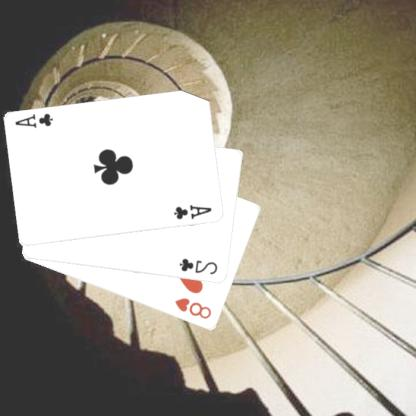2C: (178, 256, 221, 276)
8H: (174, 295, 214, 321)
AC: (14, 111, 57, 130), (173, 202, 215, 221)
